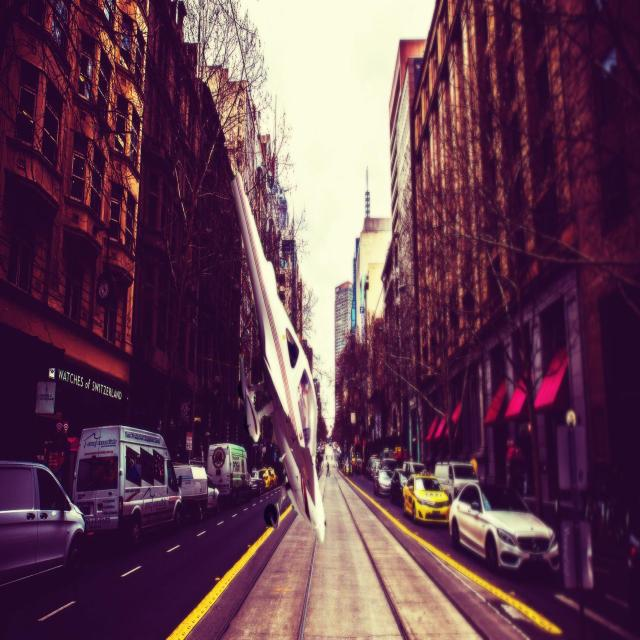airplane: (229, 167, 326, 544)
